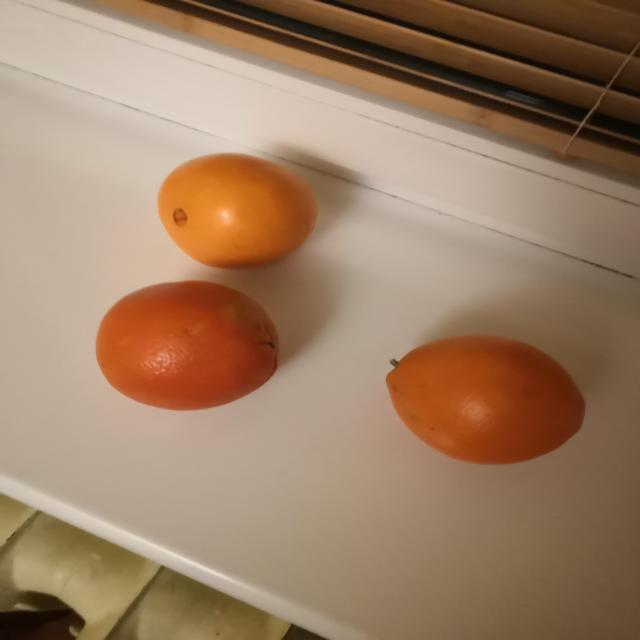orange: (387, 335, 585, 464), (97, 281, 278, 410), (158, 154, 318, 269)
